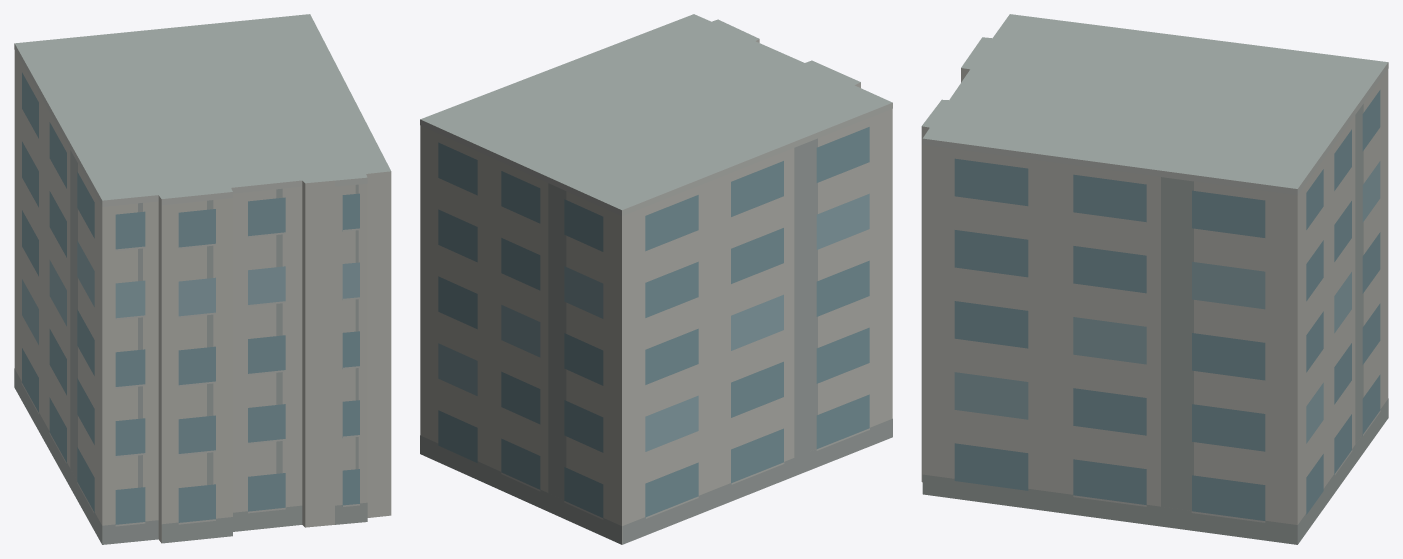
Rendered from survey-upis-32969191.glb.
3 renders of one model, left to right at view 1: azimuth 30°, elevation 25°; view 2: azimuth 150°, elevation 25°; view 3: azimuth 270°, elevation 25°, orthographic. The views are drawn at different scales.
Visible parts, largest first — view 1: survey-upis-32969191.tmp; view 2: survey-upis-32969191.tmp; view 3: survey-upis-32969191.tmp.
Boxes of the visible parts, x1,y1,x2,y2 form: survey-upis-32969191.tmp: [14, 14, 391, 544]; survey-upis-32969191.tmp: [420, 14, 892, 544]; survey-upis-32969191.tmp: [921, 14, 1388, 544].
Bounding box in the file's own units: 14.36 × 13.6 × 16.18.
